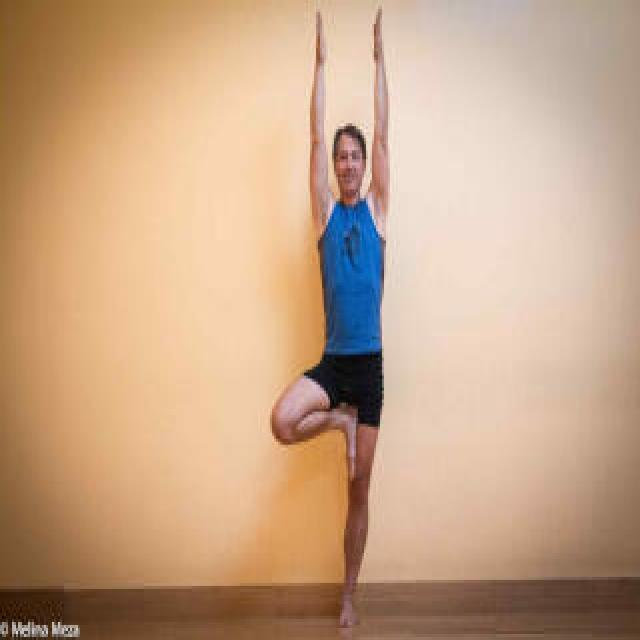yoga-pose tree: (271, 9, 397, 622)
